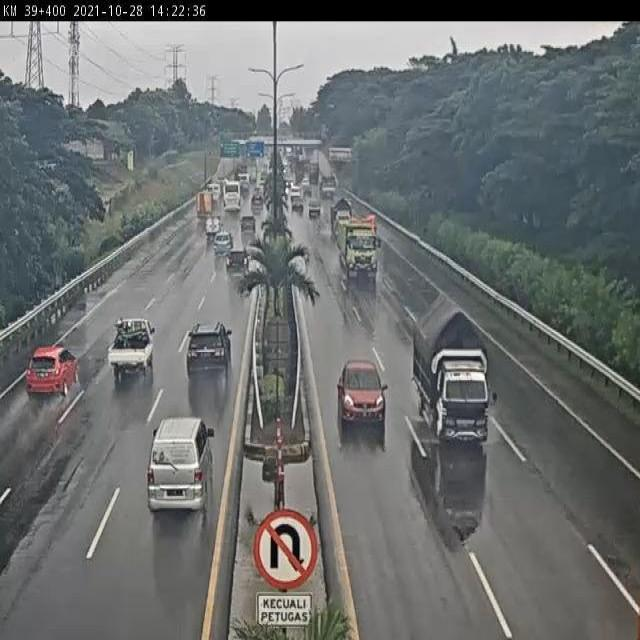big truck: (340, 217, 381, 280)
car: (403, 299, 507, 441), (141, 416, 226, 517), (333, 356, 389, 436), (20, 340, 85, 408), (180, 316, 235, 388), (106, 313, 157, 387), (223, 244, 249, 273), (234, 208, 258, 236), (212, 231, 235, 256)
small truck: (194, 184, 216, 217), (201, 215, 221, 237)
